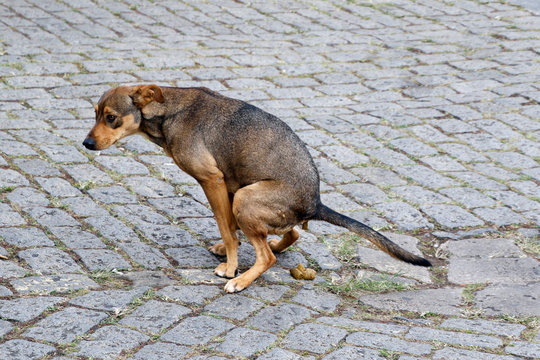dog_pooping: (79, 80, 437, 296)
